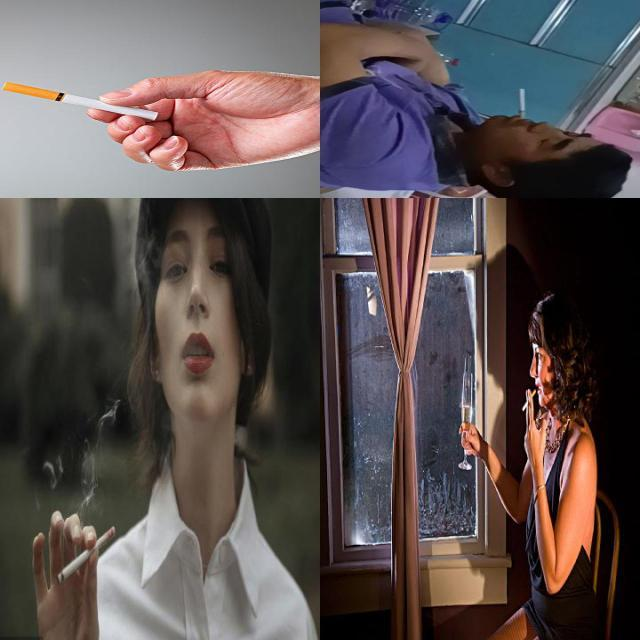smoking: (0, 80, 159, 121), (56, 526, 116, 584), (518, 387, 540, 410), (518, 89, 526, 119)
